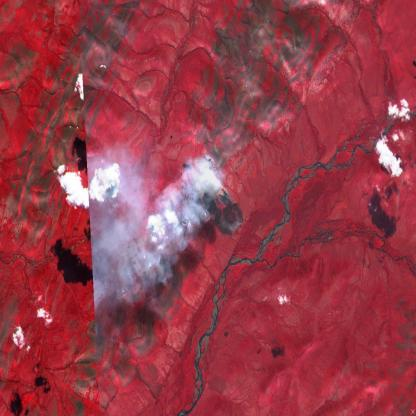fire: (201, 178, 245, 244)
